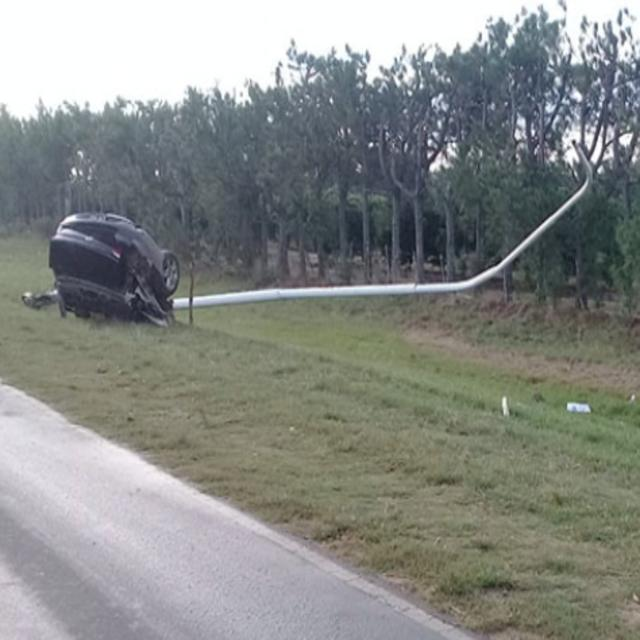Inclined Pole: (171, 138, 597, 309)
